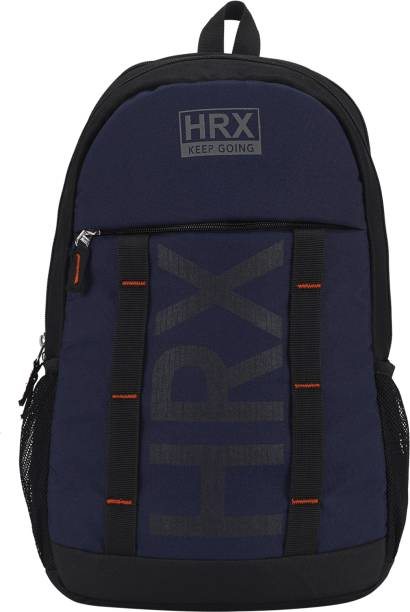backpack: (17, 0, 409, 611)
